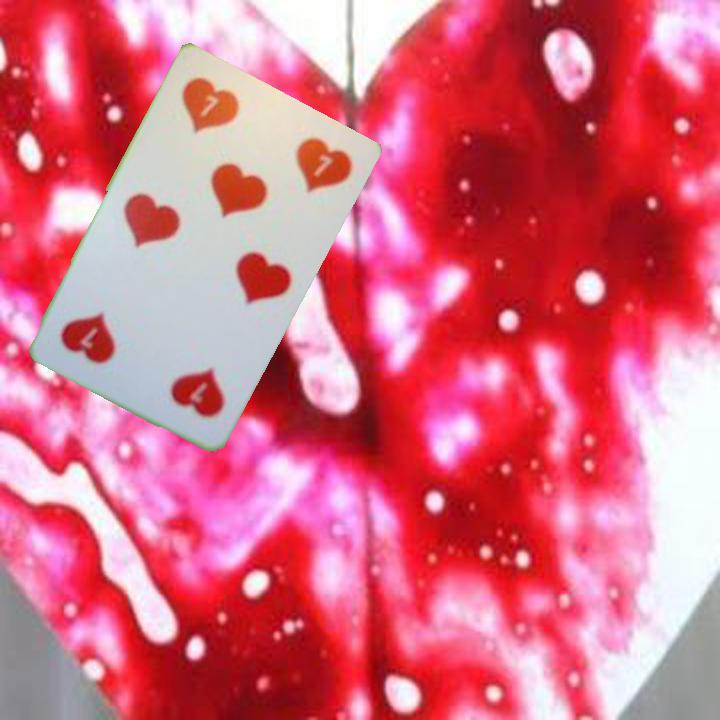h_7.png: (124, 315, 250, 436), (152, 63, 279, 183)
